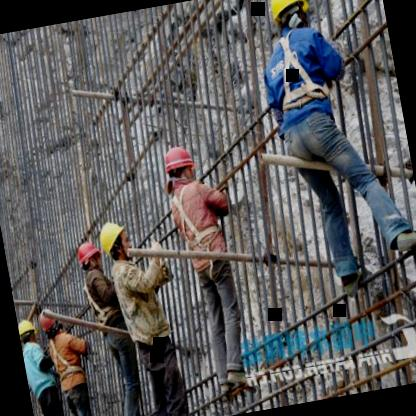helmet: (158, 140, 201, 194), (264, 0, 313, 41), (94, 217, 132, 269), (72, 240, 104, 283), (35, 305, 61, 338), (16, 310, 40, 344)
